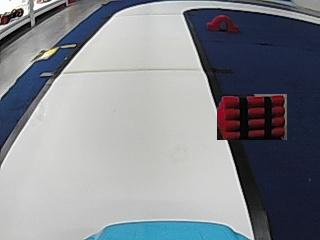bridge: (206, 15, 237, 32)
